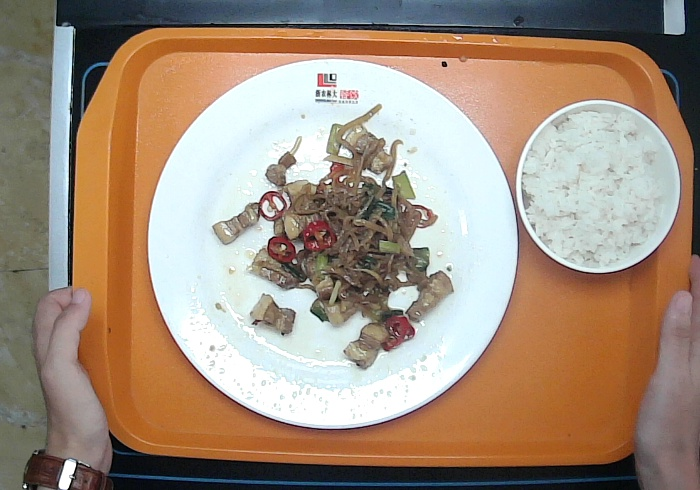ZNLD-Da_Yuan_Pan: (141, 55, 522, 432)
ZNLD-Fan_Wan: (509, 93, 684, 286)
